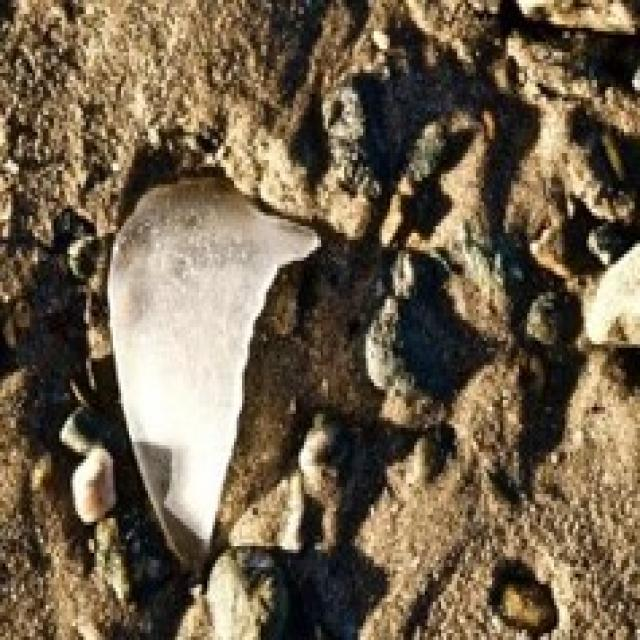electronic: (113, 174, 324, 593)
